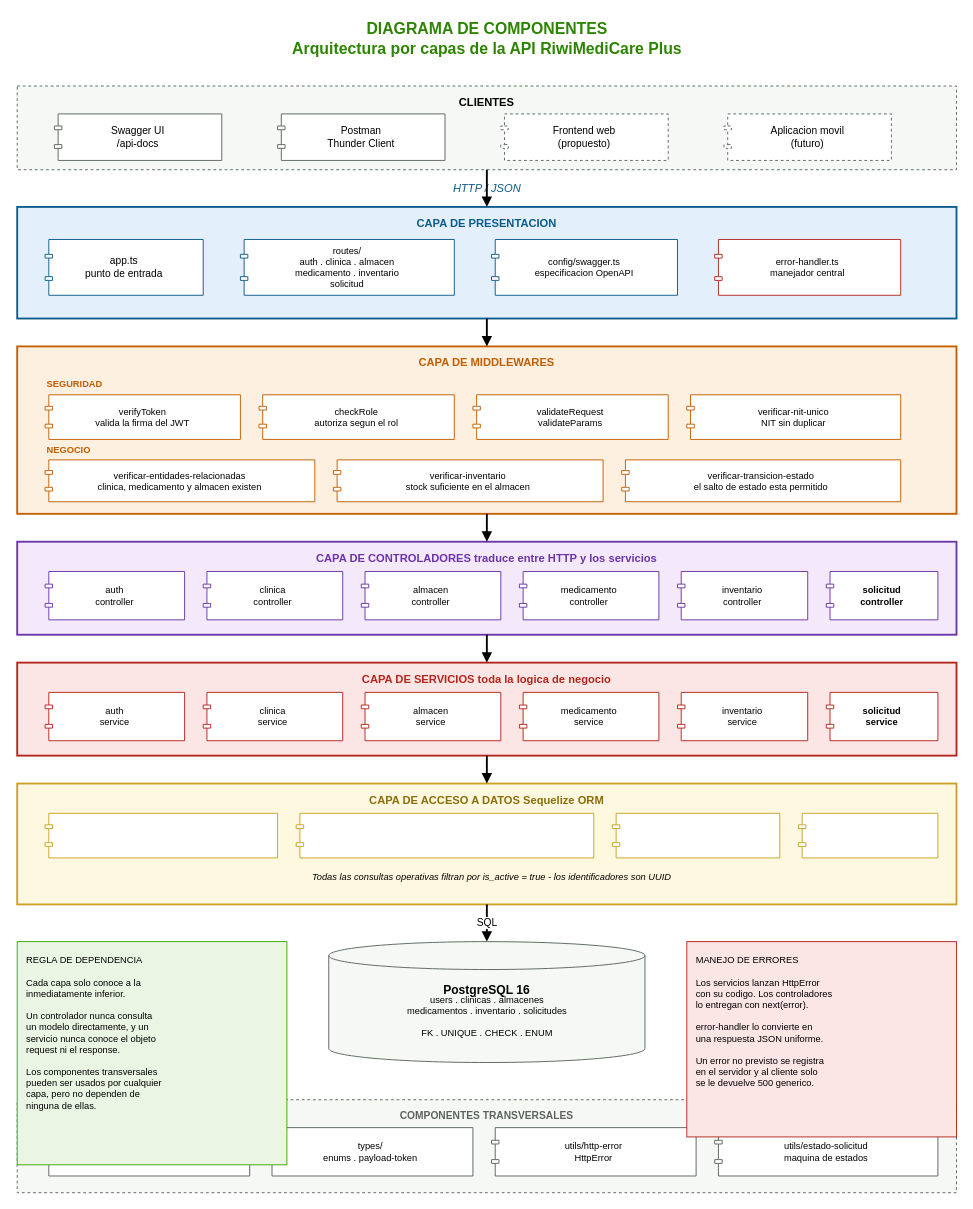
This 973x1209 diagram has some shape labels left out. The centre of each missing label's shape, as x and y in pixels:
config/db.ts conexion Sequelize: the point at 695,835
migrations/ seeders/ Umzug: the point at 867,835
models/index.ts asociaciones entre modelos: the point at 161,835
User . Clinica . Almacen Medicamento . Inventario . Solicitud: the point at 444,835
